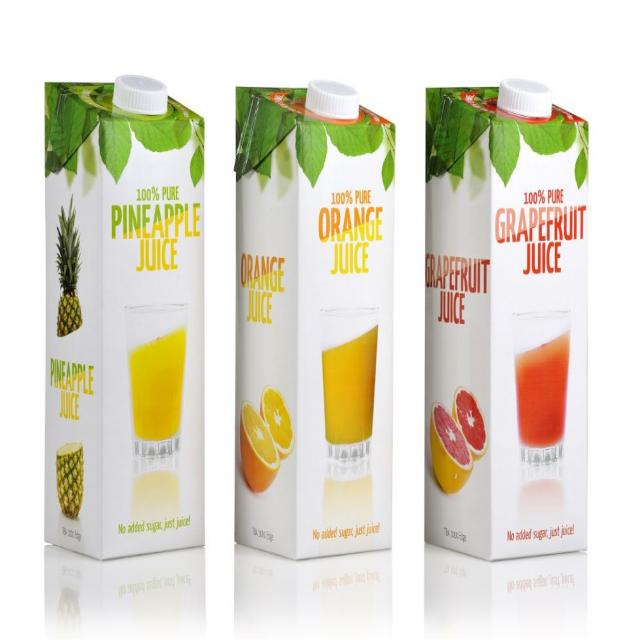non_white_jug: (28, 66, 220, 560), (228, 71, 404, 570), (423, 74, 601, 562)
